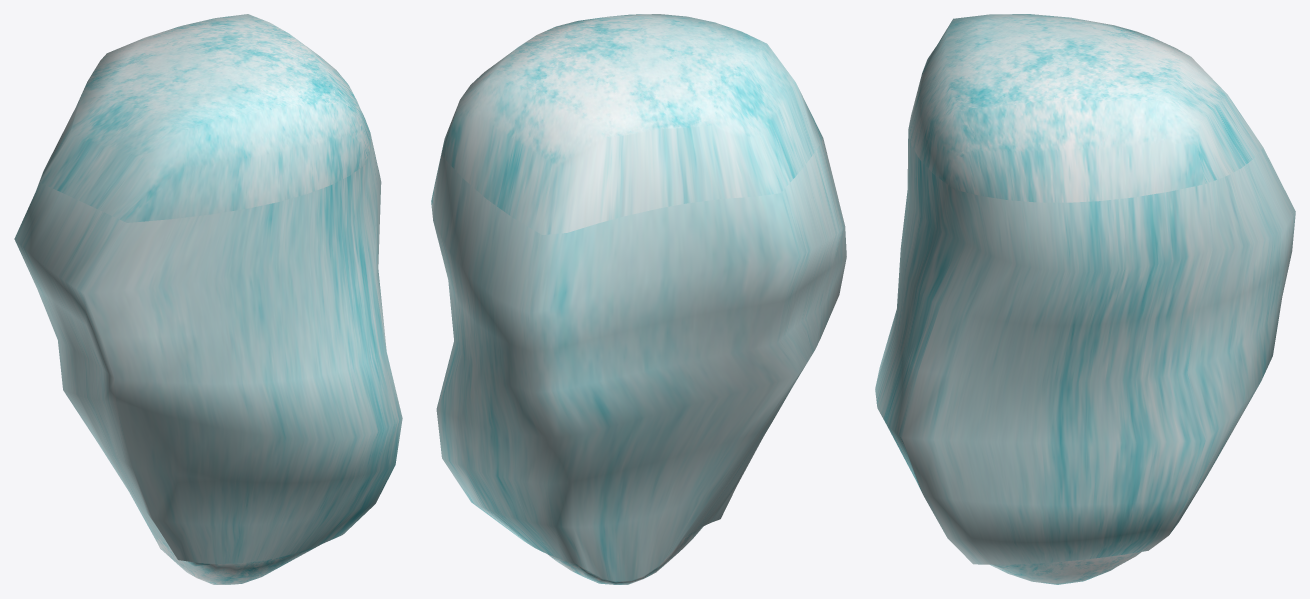
The model's file is BigIce_A.fbx.
3 renders of one model, left to right at view 1: azimuth 30°, elevation 25°; view 2: azimuth 150°, elevation 25°; view 3: azimuth 270°, elevation 25°, orthographic. The views are drawn at different scales.
Visible parts, largest first — view 1: pCube1; view 2: pCube1; view 3: pCube1.
Boxes of the visible parts, left/top/right/bottom form: pCube1: left=14, top=14, right=402, bottom=584; pCube1: left=431, top=14, right=846, bottom=584; pCube1: left=875, top=14, right=1295, bottom=584.
Size of the model in its own units: 28.11 by 40.95 by 29.13.
1 material, 1 textured.
